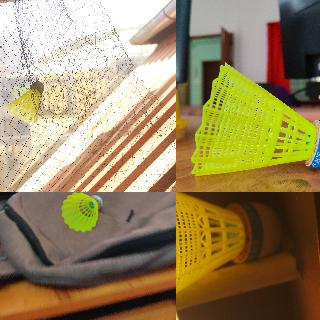shuttlecock: (190, 59, 319, 178), (176, 192, 281, 319), (61, 192, 101, 231), (8, 81, 44, 123)
